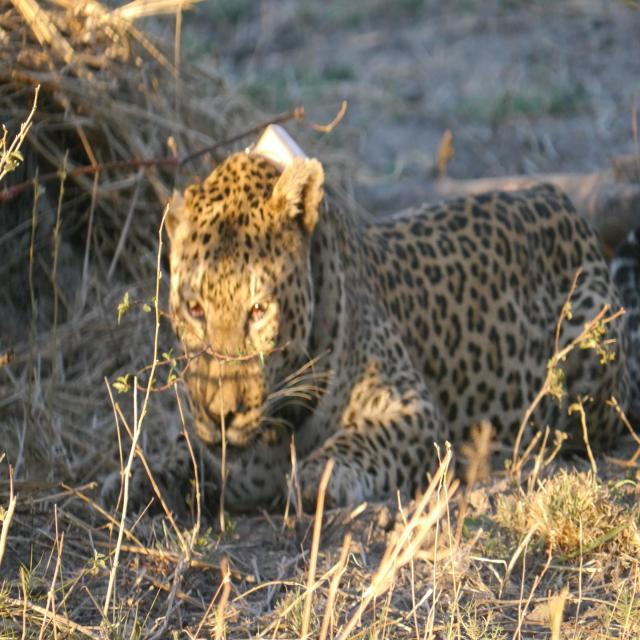Leopard: (114, 133, 639, 541)
